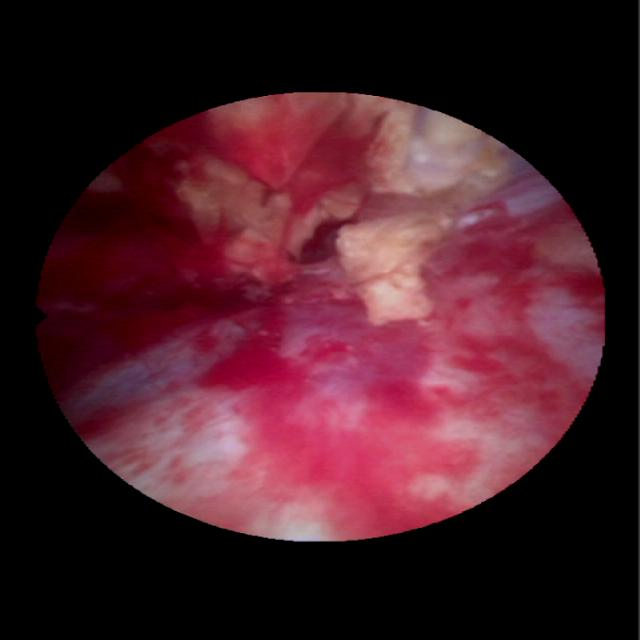stone: (168, 96, 509, 284), (333, 162, 502, 323)
